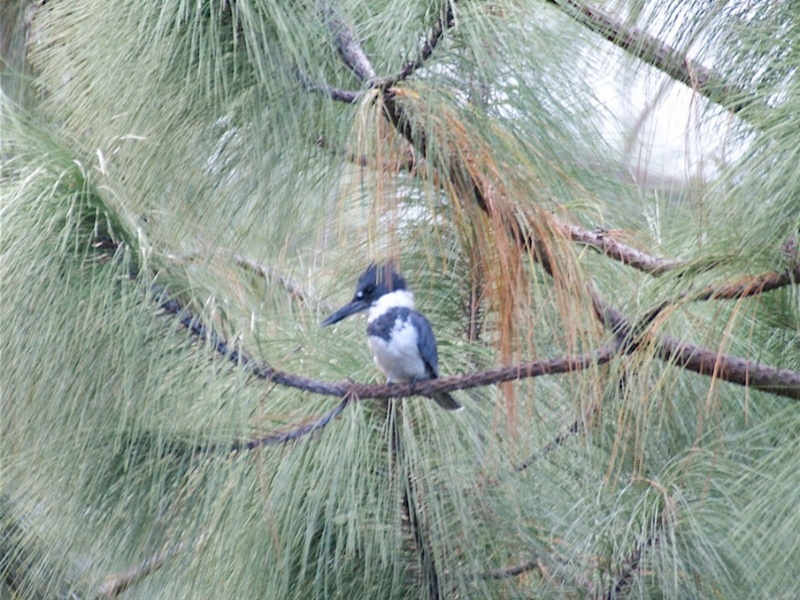kingfisher: (321, 260, 462, 413)
